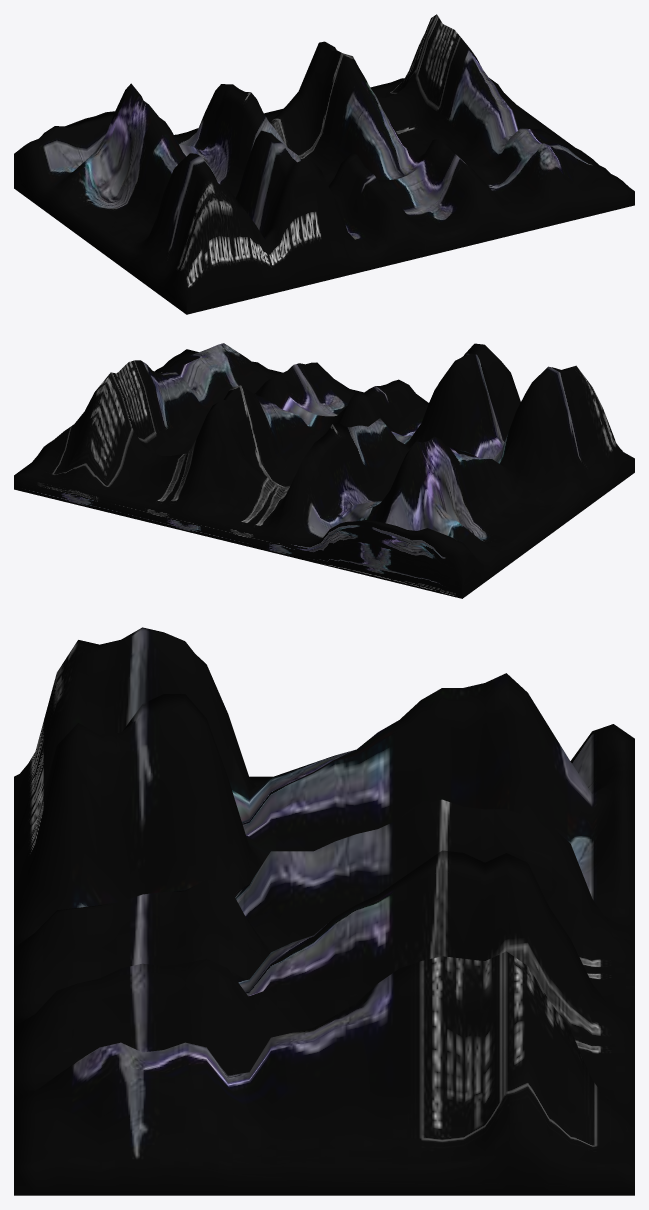
The model's file is BASE_05_Tall_Mesh.glb.
3 renders of one model, top to bottom at view 1: azimuth 30°, elevation 25°; view 2: azimuth 150°, elevation 25°; view 3: azimuth 270°, elevation 25°, orthographic. The views are drawn at different scales.
Parts seen in each view (by area): view 1: BASE_05_Tall_Mesh; view 2: BASE_05_Tall_Mesh; view 3: BASE_05_Tall_Mesh.
Part boxes in pixels (x1=…): BASE_05_Tall_Mesh: x1=14, y1=14, x2=634, y2=314; BASE_05_Tall_Mesh: x1=14, y1=343, x2=634, y2=598; BASE_05_Tall_Mesh: x1=14, y1=627, x2=634, y2=1195.
Size of the model in its own units: 2 by 0.51 by 1.33.
1 material, 1 textured.
